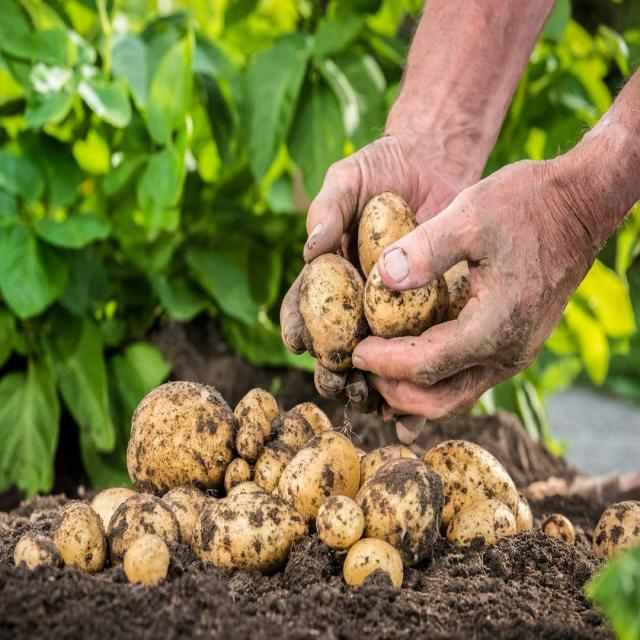potato: (126, 380, 235, 494), (295, 253, 369, 359)
